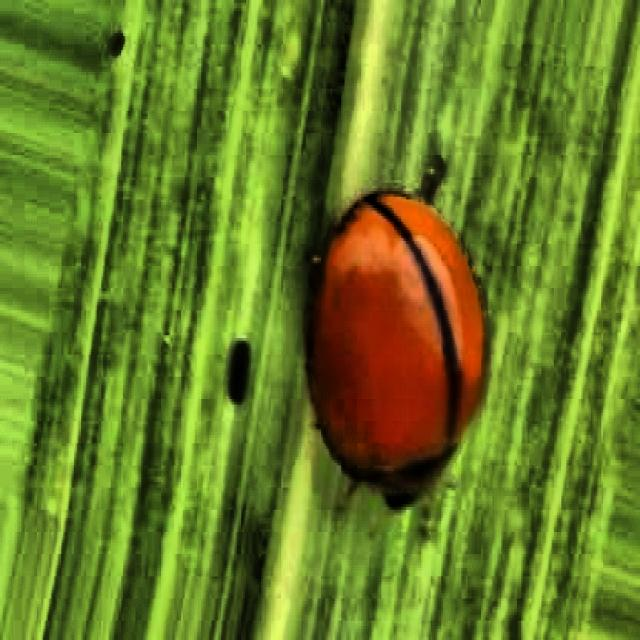Ladybug: (242, 107, 542, 564)
